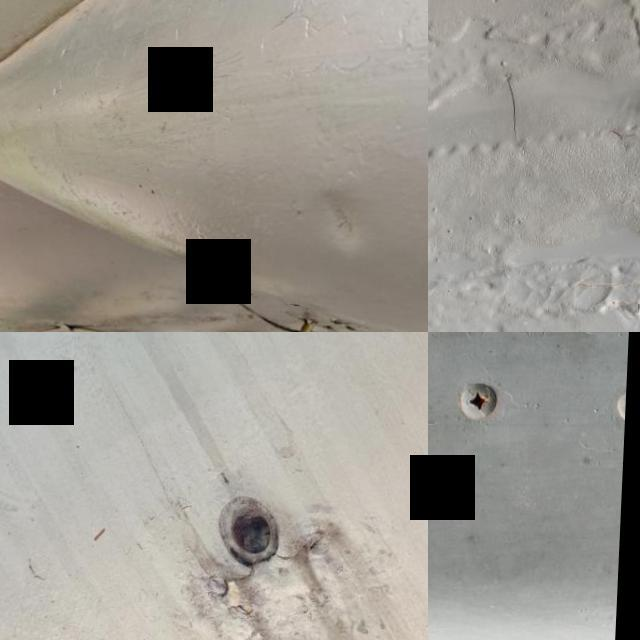Crack: (569, 259, 640, 332), (200, 564, 267, 630), (493, 69, 532, 156)
Dent: (296, 171, 396, 270)
